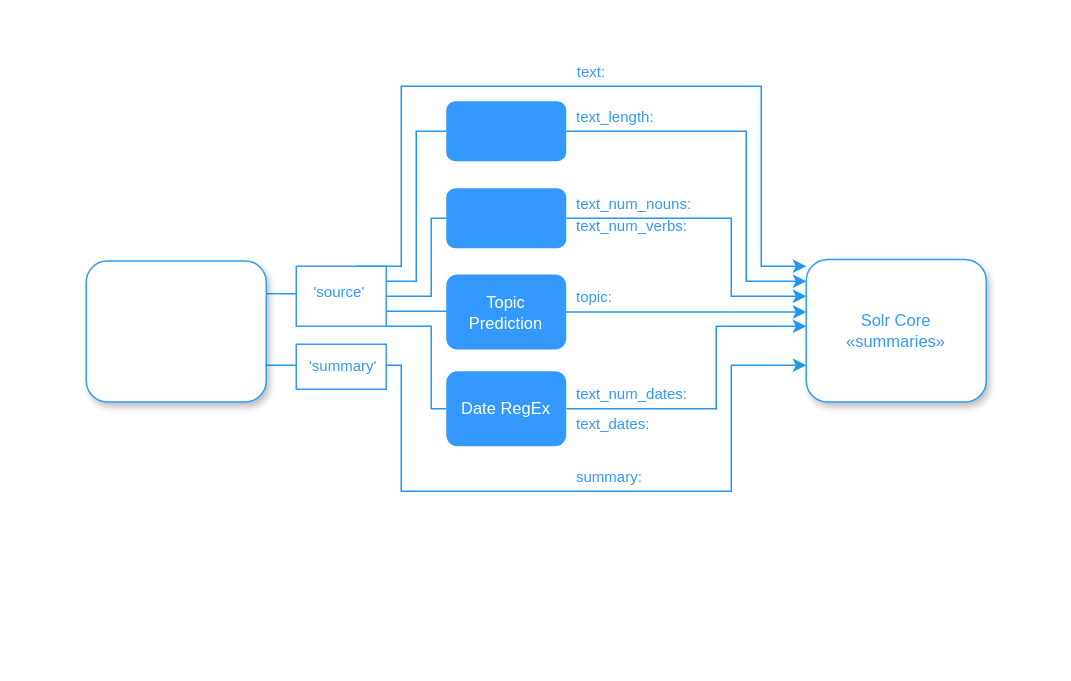
Image size: 1071x681. Some labels were removed from this diagram. Each missing label, with the centre of its shape:
"len" goes at pixel 506 130.
"POS Tagging" goes at pixel 506 218.
"Rohdaten CSV" goes at pixel 177 333.
